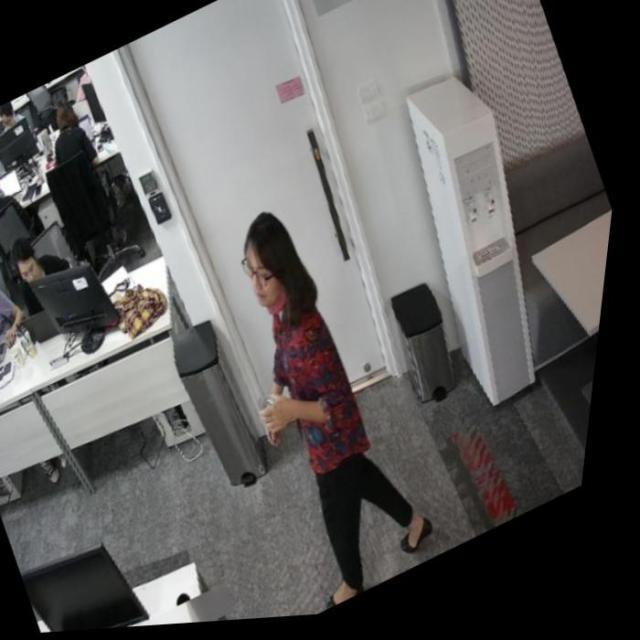hairnet: (238, 244, 290, 316)
